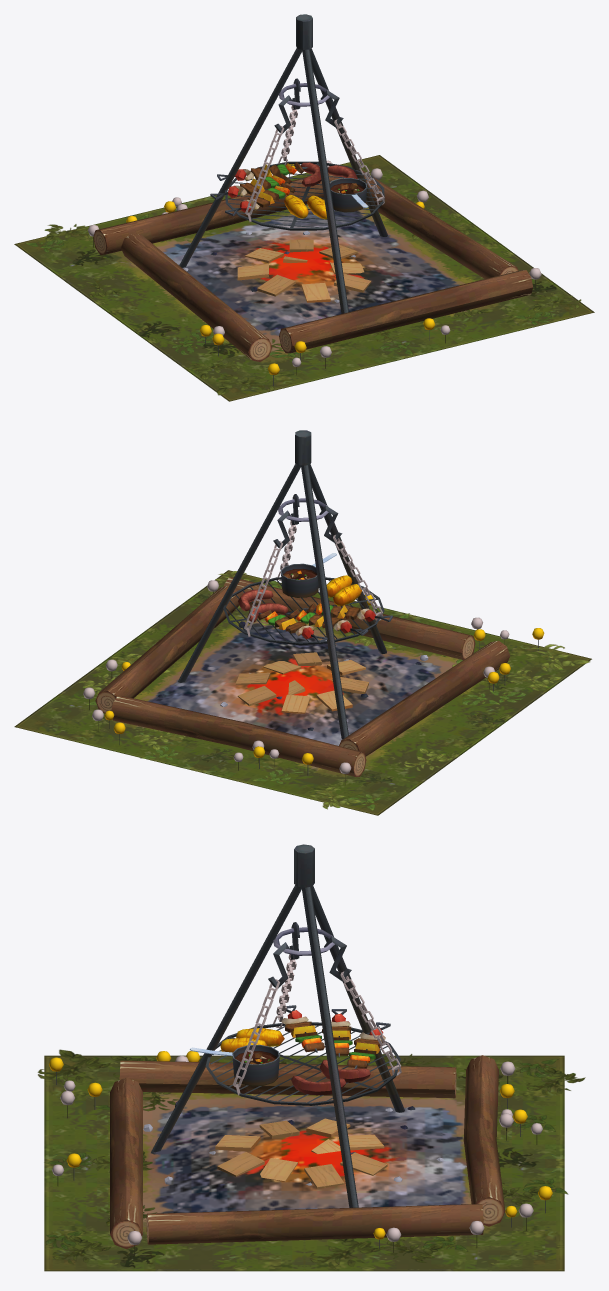
Rendered from my_military_01_campfire.glb.
3 views of the same model, one above another, from view 1: azimuth 30°, elevation 25°; view 2: azimuth 150°, elevation 25°; view 3: azimuth 270°, elevation 25° (orthographic). The views are drawn at different scales.
Visible parts, largest first — view 1: my_military_01_campfire; view 2: my_military_01_campfire; view 3: my_military_01_campfire.
Part boxes in pixels (bbox=[...]): my_military_01_campfire: bbox=[14, 14, 594, 401]; my_military_01_campfire: bbox=[14, 430, 591, 815]; my_military_01_campfire: bbox=[37, 844, 585, 1271].
Size of the model in its own units: 0.0203 by 0.0132 by 0.0218.
Materials: 2 (2 with a texture image).
